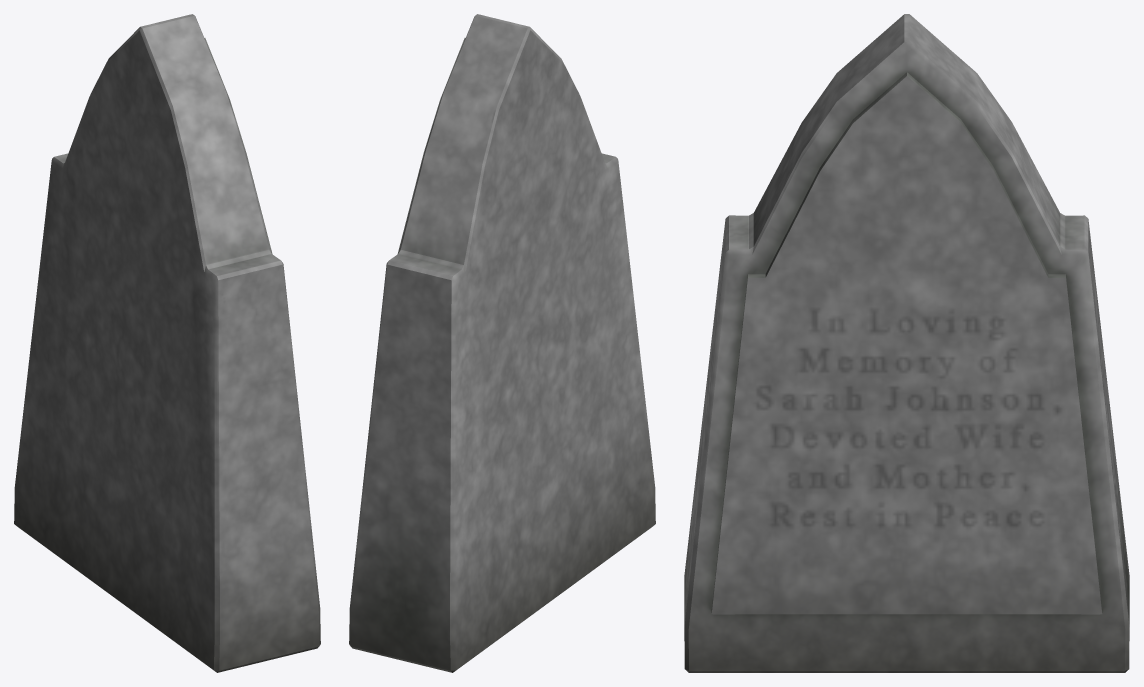
File: Grave_2.fbx
3 renders of one model, left to right at view 1: azimuth 30°, elevation 25°; view 2: azimuth 150°, elevation 25°; view 3: azimuth 270°, elevation 25°, orthographic. The views are drawn at different scales.
Parts seen in each view (by area): view 1: Grave_2_LOD0; view 2: Grave_2_LOD0; view 3: Grave_2_LOD0.
Boxes of the visible parts, x1,y1,x2,y2 form: Grave_2_LOD0: [14, 14, 320, 672]; Grave_2_LOD0: [349, 14, 655, 672]; Grave_2_LOD0: [684, 14, 1129, 672].
Size of what is drawn, in the model's own units: 89.21 by 425 by 278.
